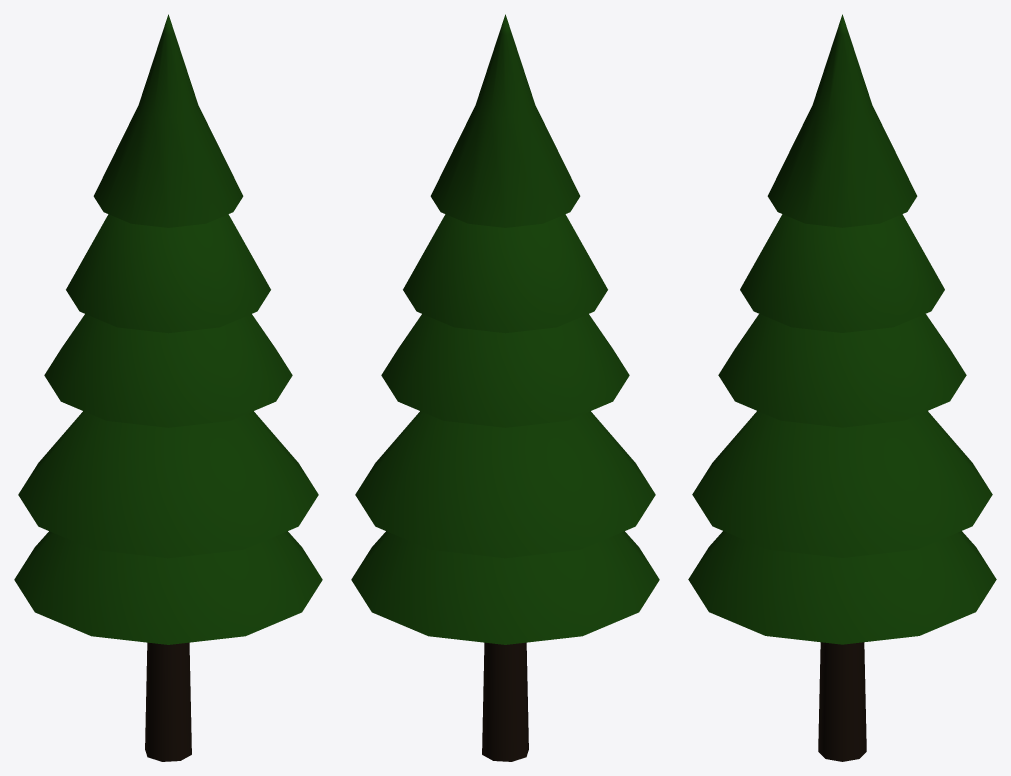
File: Tree_Fir.FBX
3 views of the same model, side by side, from view 1: azimuth 30°, elevation 25°; view 2: azimuth 150°, elevation 25°; view 3: azimuth 270°, elevation 25° (orthographic).
Parts seen in each view (by area): view 1: Cone001, Tree_Fir; view 2: Cone001, Tree_Fir; view 3: Cone001, Tree_Fir.
Part boxes in pixels (left/top/right/bottom): Cone001: left=14, top=14, right=322, bottom=644; Tree_Fir: left=145, top=642, right=191, bottom=761; Cone001: left=351, top=14, right=659, bottom=644; Tree_Fir: left=482, top=642, right=528, bottom=761; Cone001: left=688, top=14, right=996, bottom=644; Tree_Fir: left=818, top=642, right=866, bottom=761.
Bounding box in the file's own units: 49.65 × 131 × 49.65.
